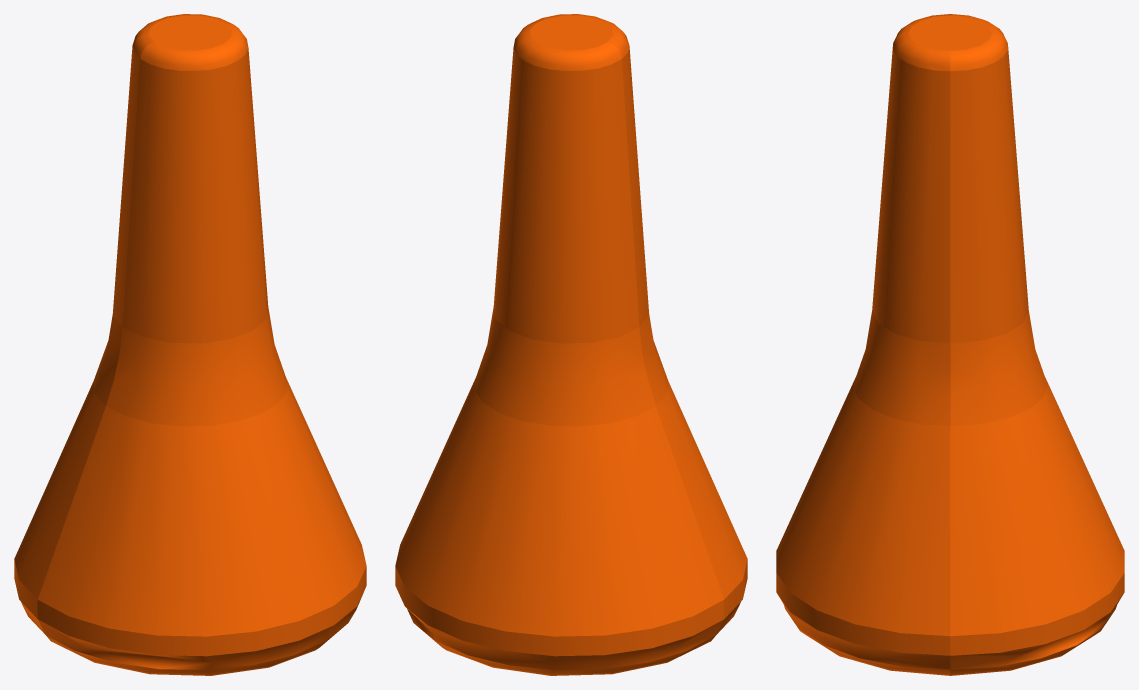
File: adjustable_tool_tip.dae
The picture shows the model from 3 angles, left to right: view 1: azimuth 30°, elevation 25°; view 2: azimuth 150°, elevation 25°; view 3: azimuth 270°, elevation 25°; orthographic projection.
Parts seen in each view (by area): view 1: a2f13e1a-2093-435b-87a5-8c5fead3c46a; view 2: a2f13e1a-2093-435b-87a5-8c5fead3c46a; view 3: a2f13e1a-2093-435b-87a5-8c5fead3c46a.
Boxes of the visible parts, <box> form: a2f13e1a-2093-435b-87a5-8c5fead3c46a: <box>14,14,366,675</box>; a2f13e1a-2093-435b-87a5-8c5fead3c46a: <box>395,14,747,675</box>; a2f13e1a-2093-435b-87a5-8c5fead3c46a: <box>776,14,1124,675</box>.
Size of the model in its own units: 0.0165 by 0.0164 by 0.03.
